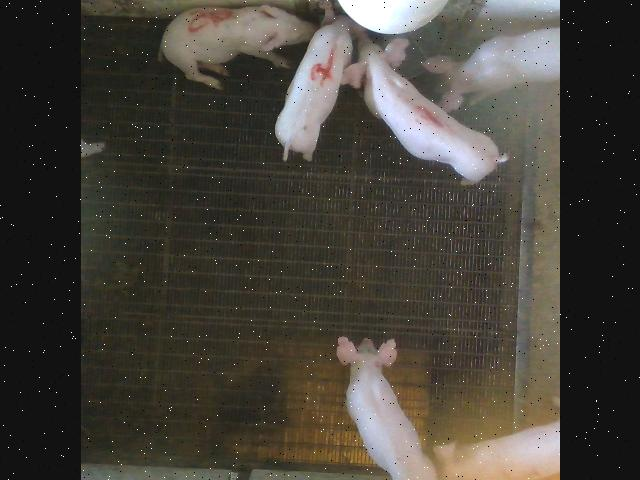pig-1: (340, 34, 506, 181)
pig-2: (432, 421, 558, 480)
pig-4: (274, 18, 352, 161)
pig-5: (158, 5, 316, 90)
